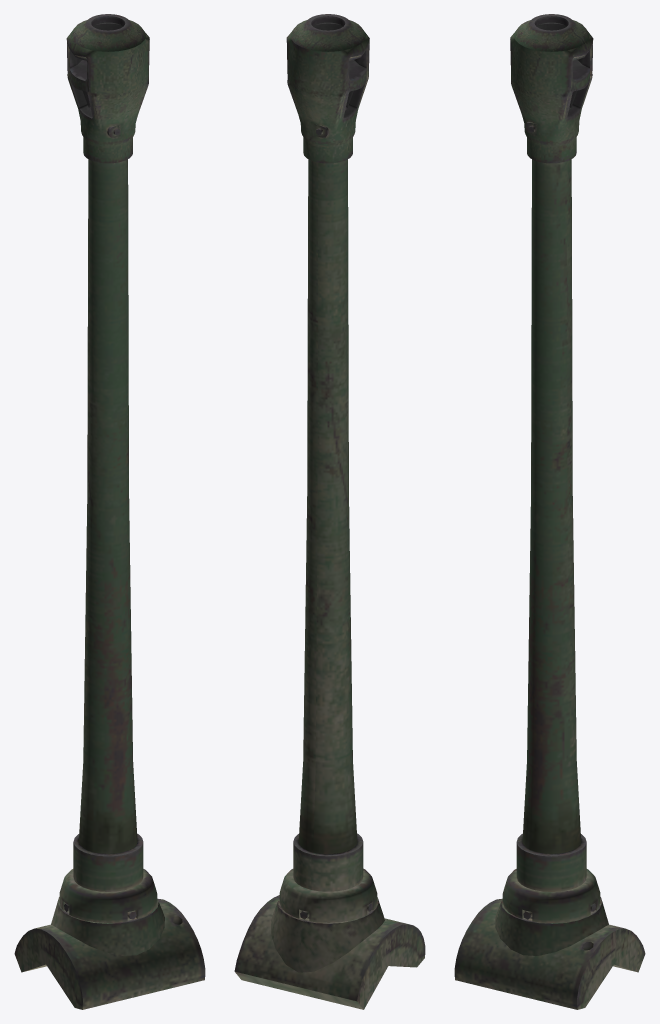
File: Gun_02.glb
3 views of the same model, side by side, from view 1: azimuth 30°, elevation 25°; view 2: azimuth 150°, elevation 25°; view 3: azimuth 330°, elevation 25° (orthographic).
Visible parts, largest first — view 1: set_0_group_0; view 2: set_0_group_0; view 3: set_0_group_0.
Part boxes in pixels (x1,y1,x2,y2): set_0_group_0: (14,14,205,1009); set_0_group_0: (234,14,425,1009); set_0_group_0: (454,14,645,1009).
Size of the model in its own units: 0.6028 by 4.48 by 0.5849.
Materials: 1 (1 with a texture image).
